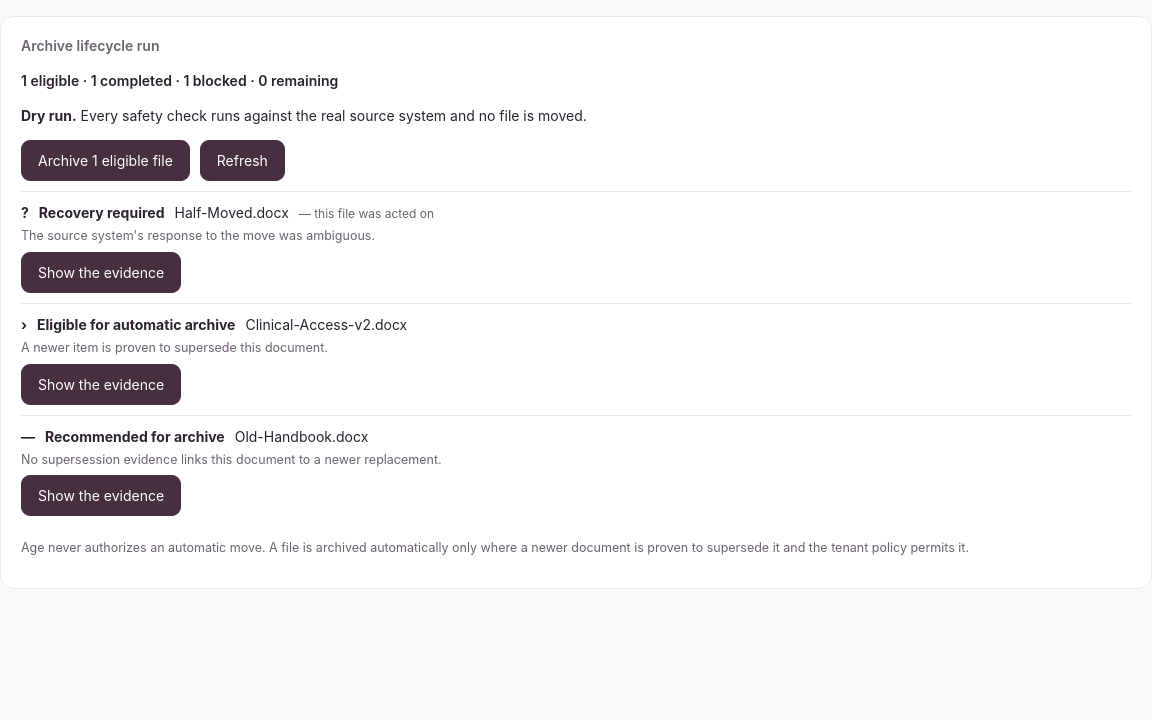
Test: the discovery archive lane › returns focus to the row that opened the evidence when it closes
The image size is (1152, 720).
Click the button "Show the evidence" below "Eligible for automatic archive" at (101, 384), box top-left (21, 364), bottom-right (181, 404)
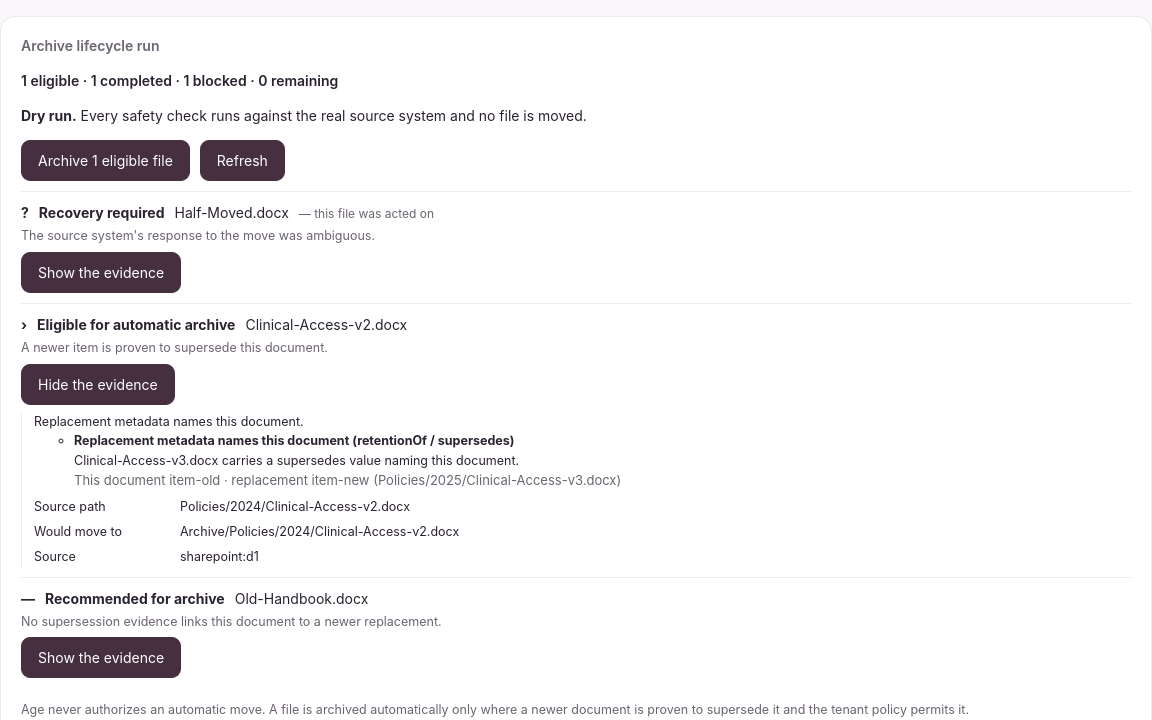
Click the button "Hide the evidence" at (98, 384), box top-left (21, 364), bottom-right (175, 404)
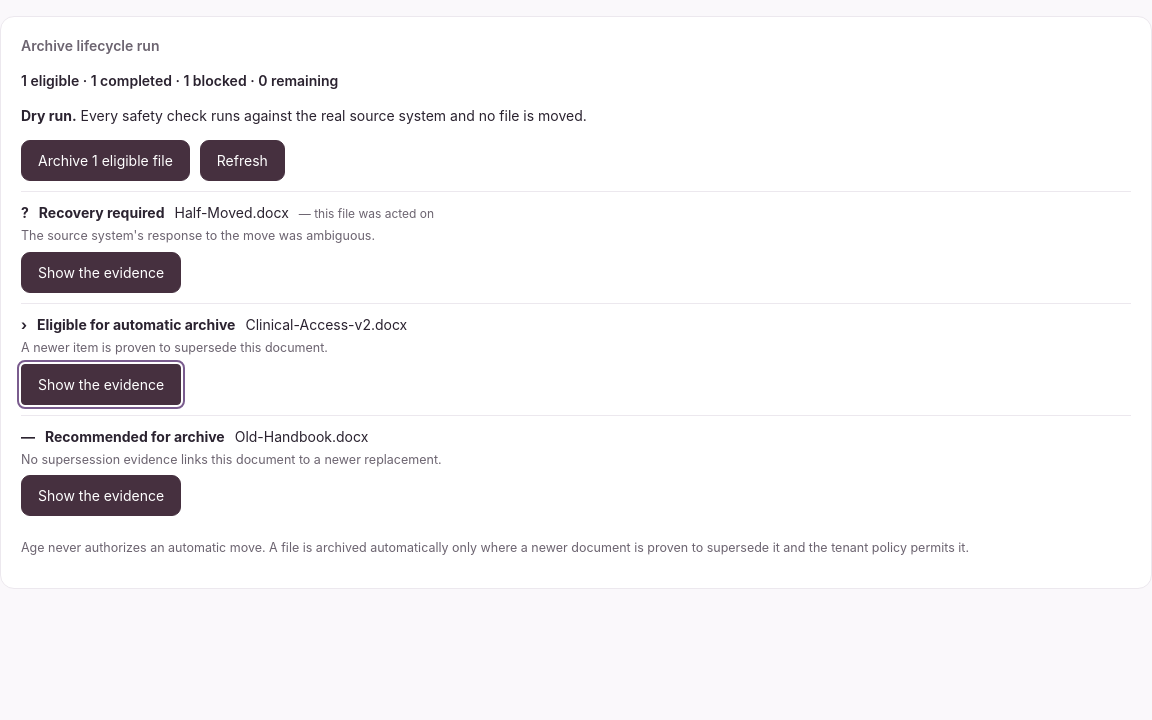
Result: the button "Show the evidence" below "Eligible for automatic archive" is shown at top-left (21, 364), bottom-right (181, 404)
